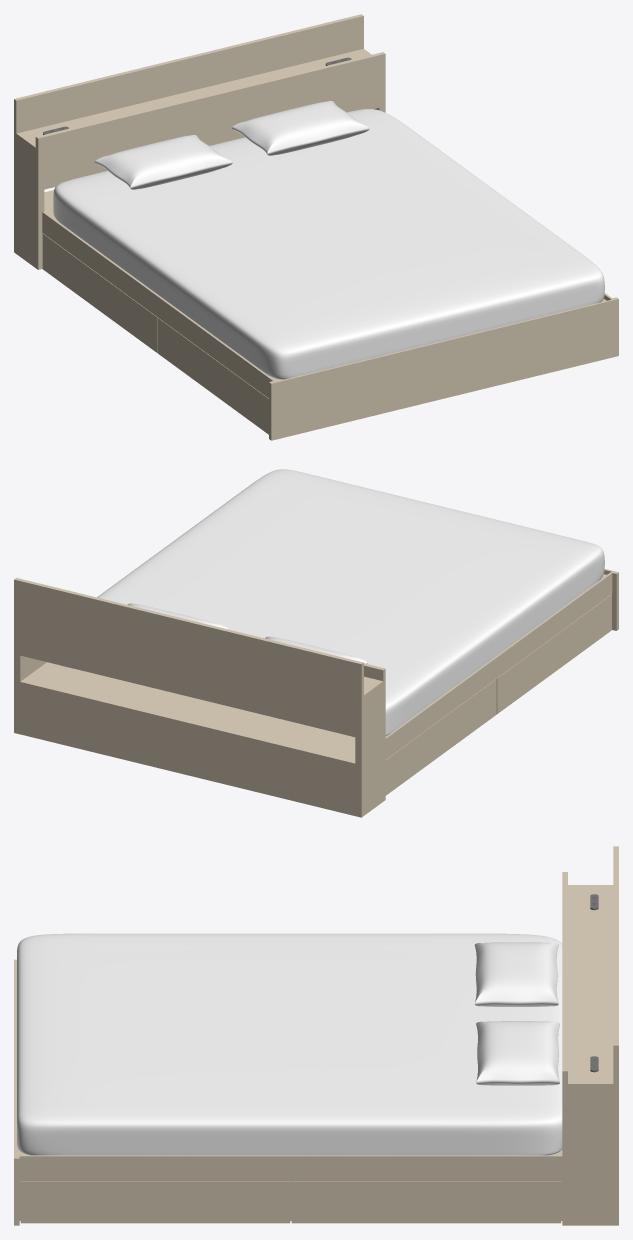
File: 131_クイーンサイズベッド.glb
The picture shows the model from 3 angles, top to bottom: view 1: azimuth 30°, elevation 25°; view 2: azimuth 150°, elevation 25°; view 3: azimuth 270°, elevation 25°; orthographic projection. The views are drawn at different scales.
Parts seen in each view (by area): view 1: マットレス, body, 枕2, 枕1, 引き出し4, 引き出し3; view 2: マットレス, body, 引き出し3, 引き出し4; view 3: マットレス, body, 引き出し1, 引き出し2, 枕1, 枕2.
Part boxes in pixels (box(x1,y1,x2,y2)): マットレス: box(53, 109, 604, 379); body: box(14, 14, 618, 440); 枕2: box(231, 101, 369, 155); 枕1: box(94, 135, 232, 189); 引き出し4: box(42, 233, 157, 353); 引き出し3: box(158, 318, 268, 434); マットレス: box(59, 469, 604, 737); body: box(14, 569, 618, 817); 引き出し3: box(496, 594, 611, 713); 引き出し4: box(385, 679, 496, 795); マットレス: box(17, 933, 562, 1155); body: box(14, 846, 618, 1225); 引き出し1: box(20, 1181, 290, 1223); 引き出し2: box(291, 1181, 561, 1223); 枕1: box(474, 942, 558, 1006); 枕2: box(476, 1021, 559, 1085).
Size of the model in its own units: 1.66 by 0.7 by 2.13.
